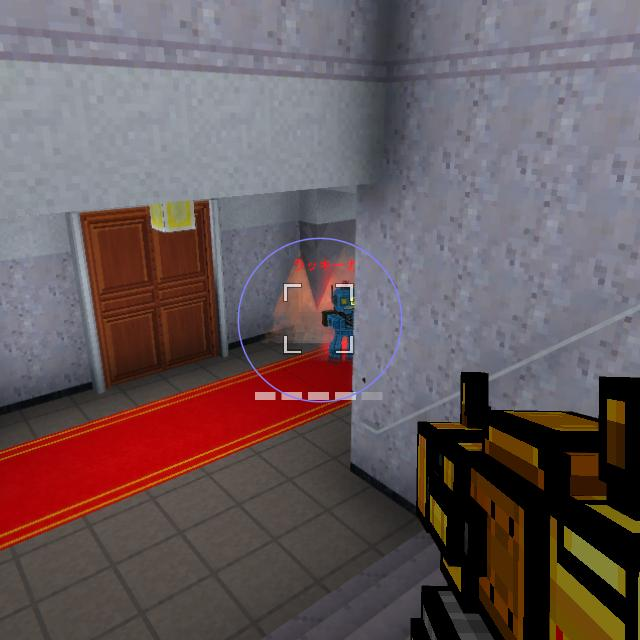Enemy: (321, 285, 354, 367)
